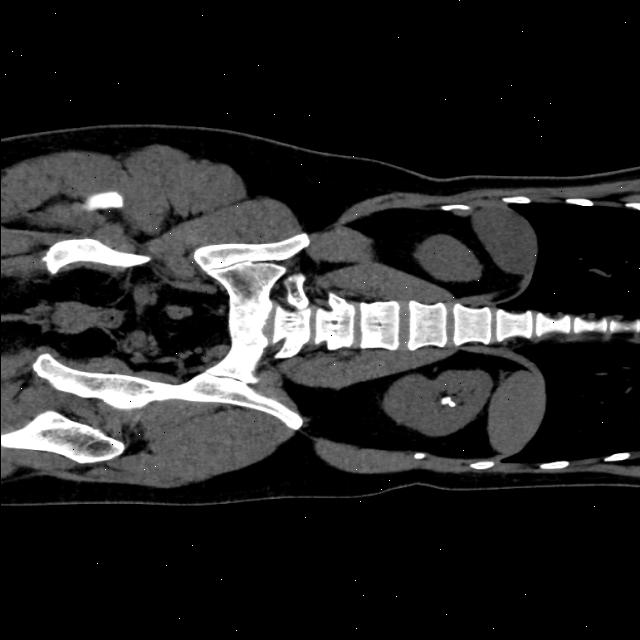kidneystone: (440, 396, 456, 408)
